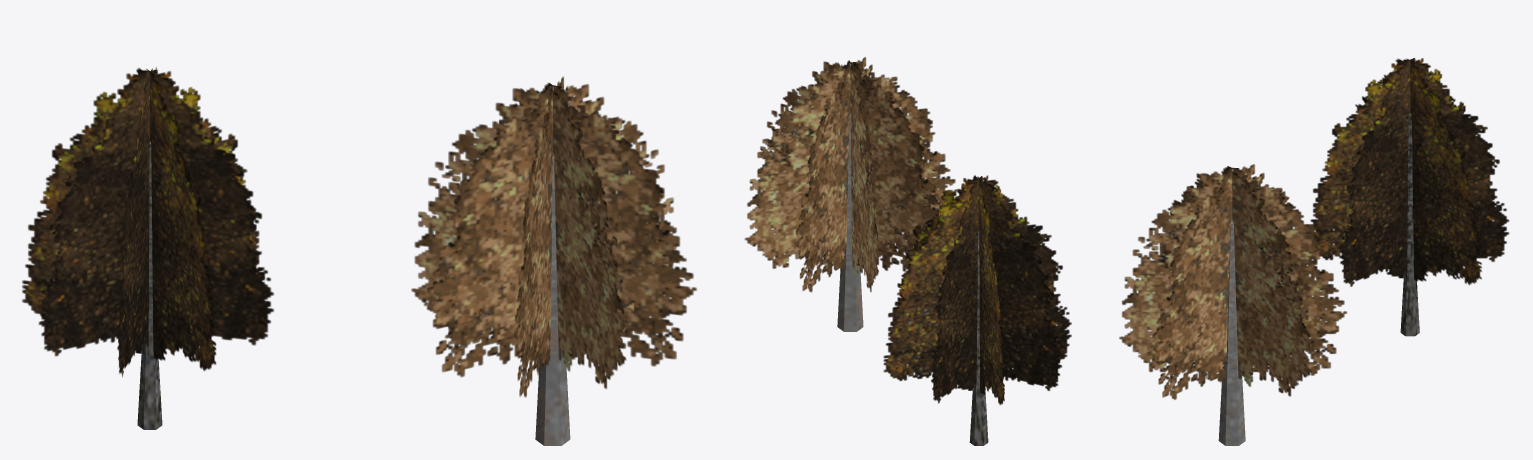
File: trees_29_33_I.glb
3 renders of one model, left to right at view 1: azimuth 30°, elevation 25°; view 2: azimuth 150°, elevation 25°; view 3: azimuth 270°, elevation 25°, orthographic. The views are drawn at different scales.
Parts seen in each view (by area): view 1: tree29, tree33; view 2: tree29, tree33; view 3: tree29, tree33.
Boxes of the visible parts, x1,y1,x2,y2 form: tree29: (411, 76, 696, 445); tree33: (22, 67, 273, 429); tree29: (744, 57, 957, 331); tree33: (883, 175, 1071, 445); tree29: (1119, 164, 1347, 445); tree33: (1310, 58, 1509, 336).
Size of the model in its own units: 5.06 by 3.13 by 4.25.
Materials: 2 (2 with a texture image).
